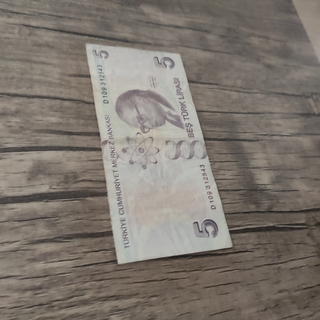5TLBack: (84, 41, 233, 265)
